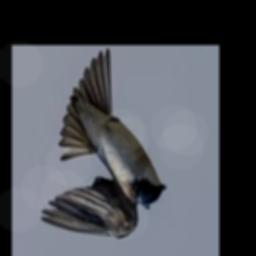Swallow: (41, 49, 166, 238)
